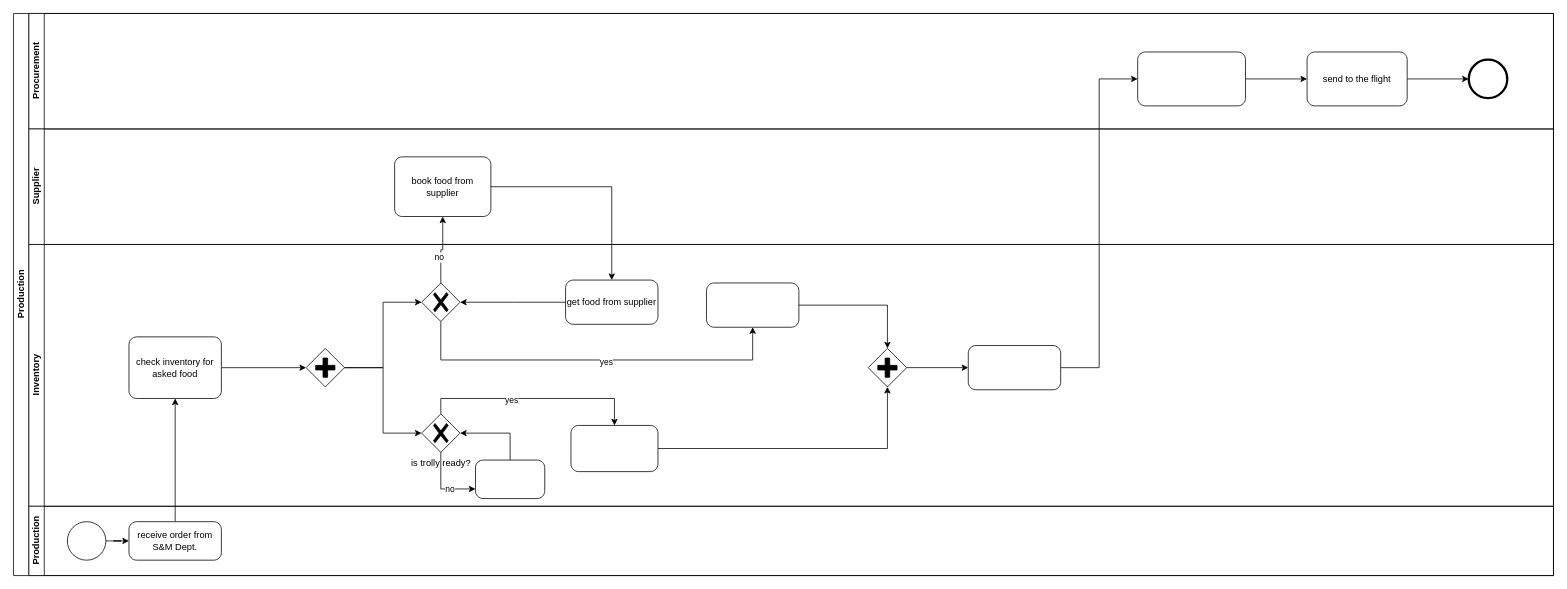
The diagram is 1567 pixels wide and 589 high, and some of its shapes have lost their labels. The shapes that lost their labels are listed below. From the top down, each one's centre as x and y in pixels, then its label:
At pixel 1191 78: "call for delivery vehicle to transport".
At pixel 440 301: "is food enough?".
At pixel 752 304: "get food prepared".
At pixel 1014 367: "get things assembled".
At pixel 614 448: "prepare trolly".
At pixel 510 479: "dispatch trolly".
